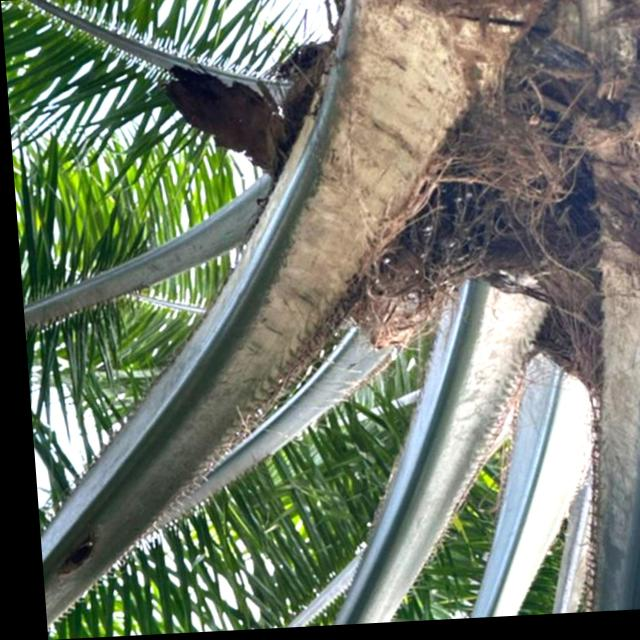unripe: (385, 181, 497, 293)
